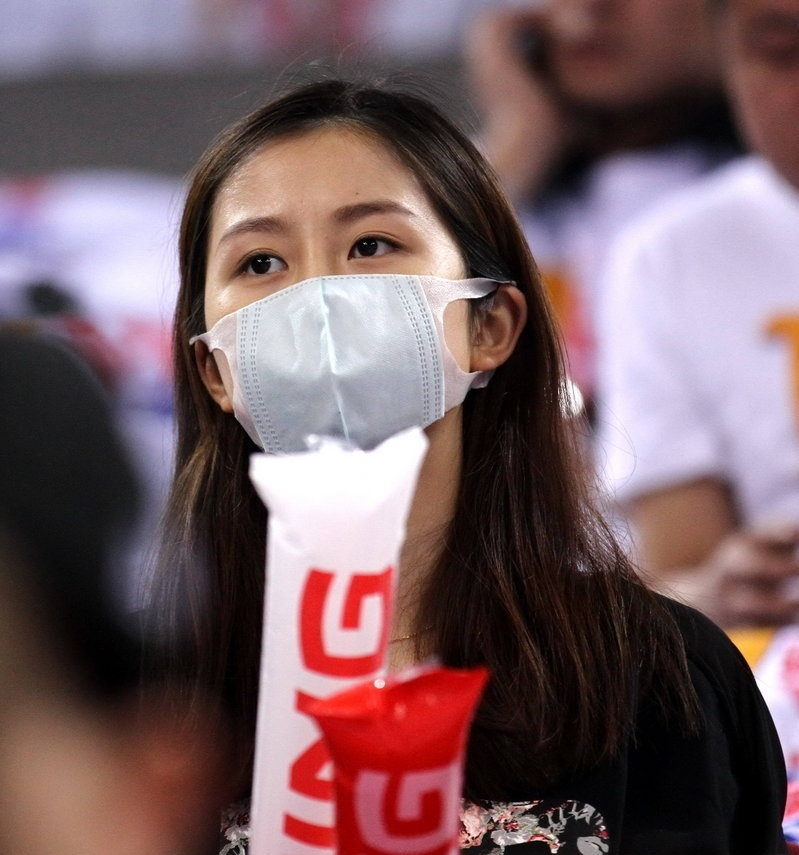face_mask: (207, 175, 453, 474)
